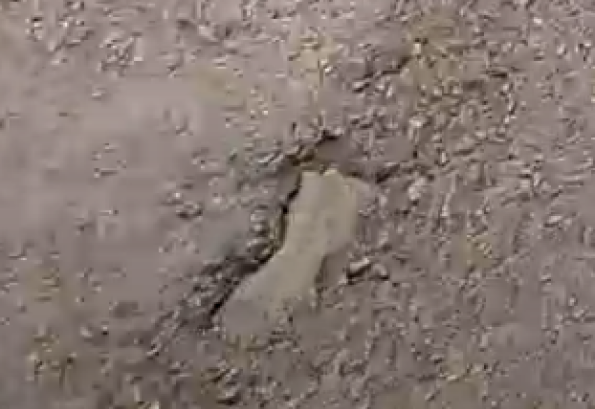Berlubang: (189, 129, 386, 357), (399, 159, 491, 257), (466, 26, 536, 134), (332, 34, 432, 107), (115, 304, 176, 409), (191, 371, 285, 409)
